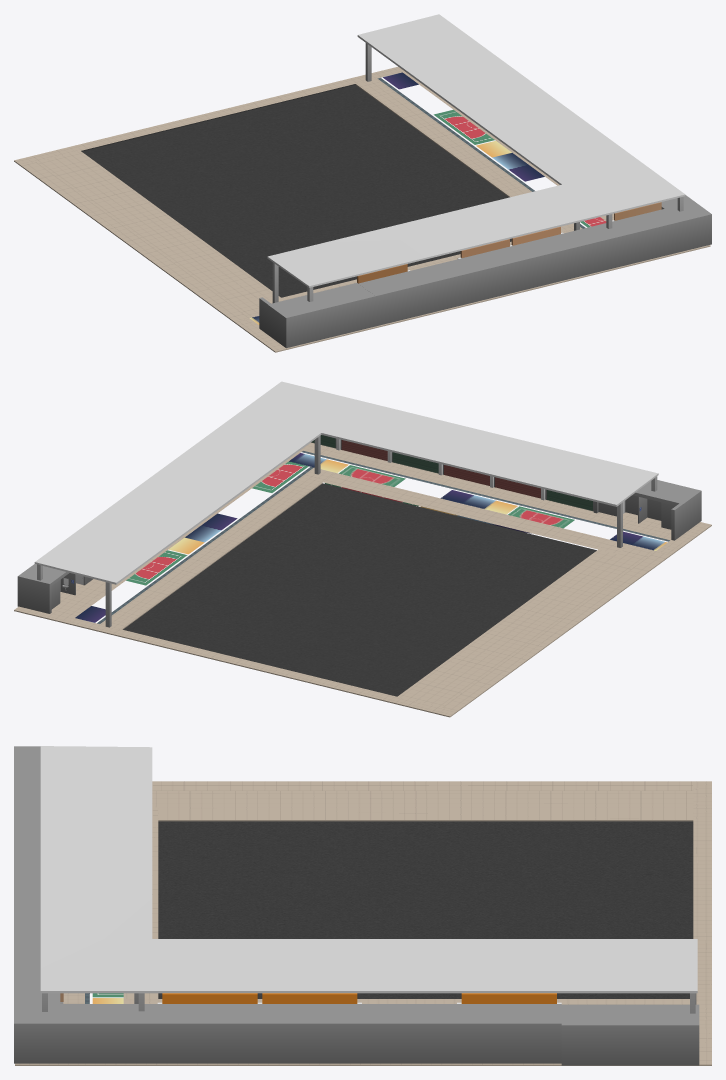
Rendered from KantinEnviroment.fbx.
The picture shows the model from 3 angles, top to bottom: view 1: azimuth 30°, elevation 25°; view 2: azimuth 150°, elevation 25°; view 3: azimuth 270°, elevation 25°; orthographic projection. The views are drawn at different scales.
Visible parts, largest first — view 1: KantinPlane, AtapKantin, Kantin, KantinBackup, TiangKantin2; view 2: KantinPlane, AtapKantin, KantinBackup, Kantin, TiangKantin2; view 3: KantinPlane, AtapKantin, Kantin, KantinBackup.
Boxes of the visible parts, x1,y1,x2,y2 form: KantinPlane: [14, 66, 710, 352]; AtapKantin: [267, 14, 685, 287]; Kantin: [358, 195, 711, 326]; KantinBackup: [259, 202, 661, 348]; TiangKantin2: [272, 43, 579, 303]; KantinPlane: [14, 442, 711, 717]; AtapKantin: [34, 381, 658, 584]; KantinBackup: [17, 480, 701, 613]; Kantin: [311, 435, 593, 511]; TiangKantin2: [105, 435, 622, 627]; KantinPlane: [15, 781, 711, 1065]; AtapKantin: [40, 746, 697, 993]; Kantin: [14, 804, 561, 1063]; KantinBackup: [14, 746, 699, 1065].
Size of what is drawn, in the model's own units: 6852 by 739 by 7118.
